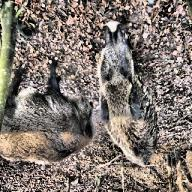boar: (0, 57, 94, 165), (97, 20, 158, 168)
